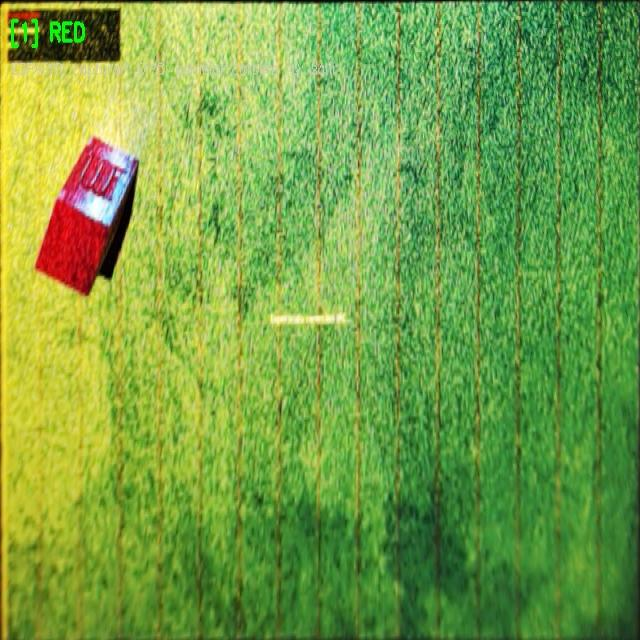red: (36, 137, 137, 293)
